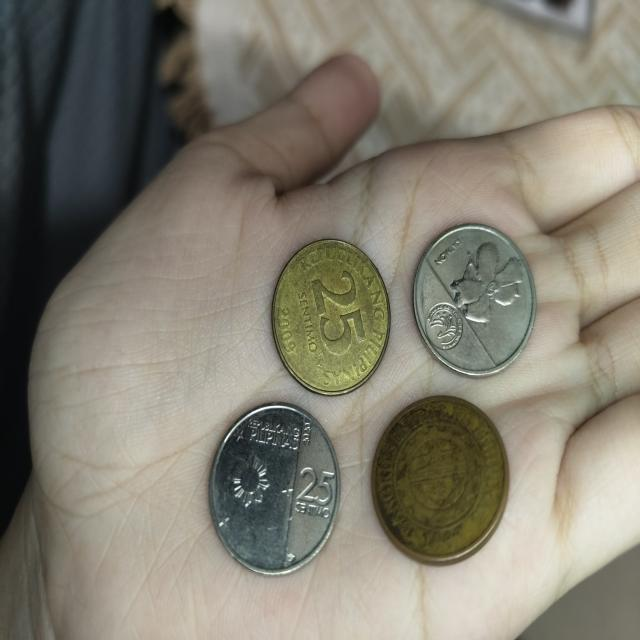25 cents: (208, 401, 340, 577), (411, 221, 536, 378)
25 cents-old: (369, 394, 509, 564), (269, 226, 398, 397)
